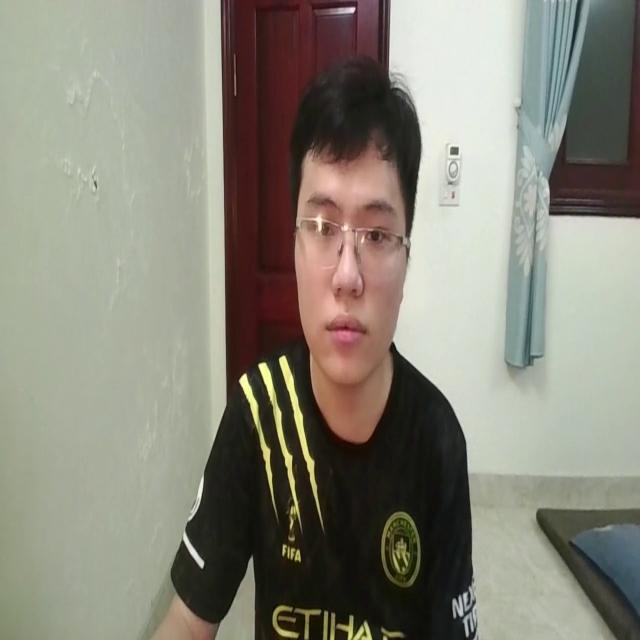student: (152, 42, 480, 640)
